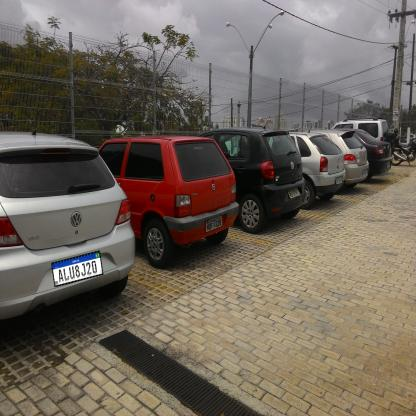PlacaM: (51, 251, 103, 287)
